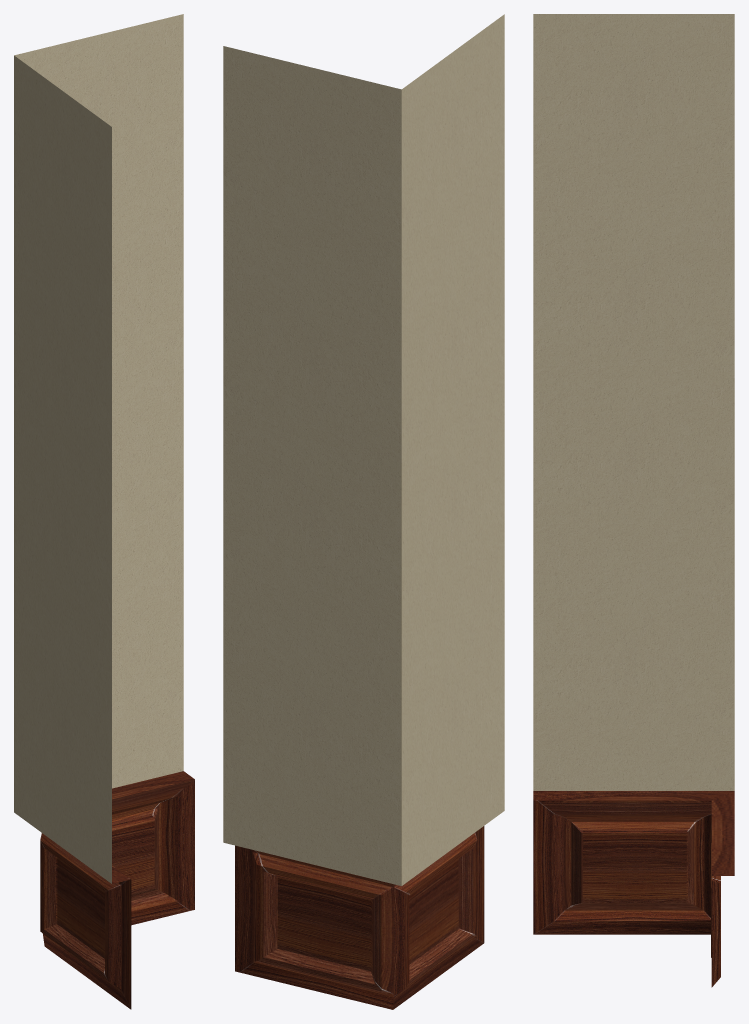
Rendered from lib_set_01_wall_03_LC.fbx.
3 renders of one model, left to right at view 1: azimuth 30°, elevation 25°; view 2: azimuth 150°, elevation 25°; view 3: azimuth 270°, elevation 25°, orthographic. The views are drawn at different scales.
Parts seen in each view (by area): view 1: lib_set_01_wall_3_LC; view 2: lib_set_01_wall_3_LC; view 3: lib_set_01_wall_3_LC.
Part boxes in pixels (x1,y1,x2,y2): lib_set_01_wall_3_LC: [14, 14, 194, 1009]; lib_set_01_wall_3_LC: [223, 14, 504, 1009]; lib_set_01_wall_3_LC: [533, 14, 734, 987].
Bounding box in the file's own units: 2 × 10 × 2.
1 material, 1 textured.
